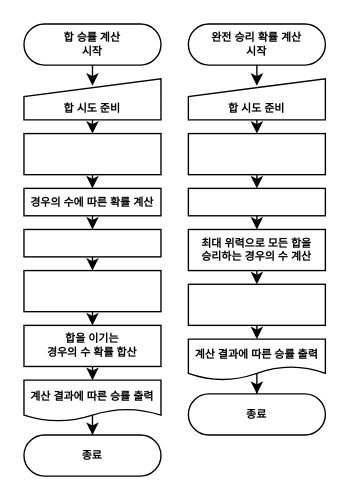
Some shapes in this 349 by 500 pixel diagram are drawn without their labels. Here are the shapes that lost their labels. From the top down, the centre of each, then its label:
At point 92,153: "양측의 코인 결과에 따른 스킬 위력 경우의 수 계산".
At point 256,153: "최대 스킬 위력이 나오는 경우의 수 계산".
At point 256,201: "계산된 경우의 수 확률 계산".
At point 92,242: "합을 이기는 경우의 수 계산".
At point 92,290: "합을 이기는 경우의 수 확률 계산".
At point 256,304: "최대 위력으로 모든 합을 승리하는 확률 계산".
